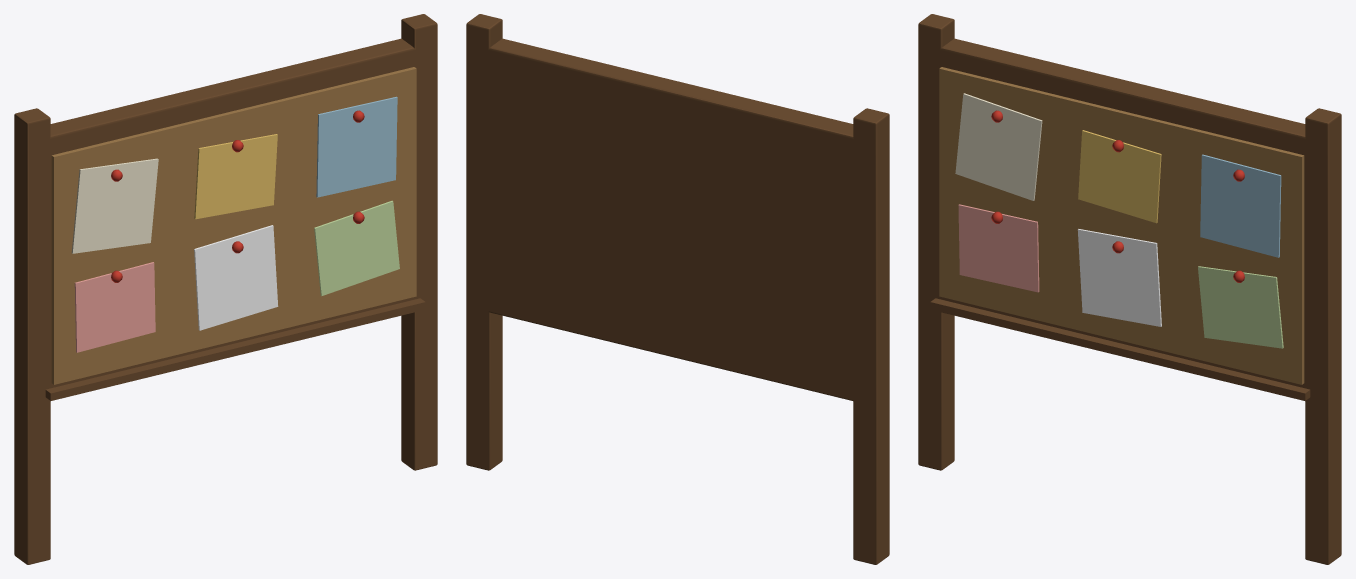
Rendered from notice-board.glb.
The picture shows the model from 3 angles, left to right: view 1: azimuth 30°, elevation 25°; view 2: azimuth 150°, elevation 25°; view 3: azimuth 330°, elevation 25°; orthographic projection.
Visible parts, largest first — view 1: part-cork, part-wood, part-paper-2, part-paper-0, part-paper-4, part-paper-3, part-paper-5, part-paper-1, part-pin; view 2: part-wood; view 3: part-cork, part-wood, part-paper-2, part-paper-0, part-paper-4, part-paper-3, part-paper-5, part-paper-1, part-pin.
Boxes of the visible parts, left/top/right/bottom form: part-cork: left=51, top=67, right=416, bottom=384; part-wood: left=14, top=14, right=437, bottom=564; part-paper-2: left=316, top=96, right=397, bottom=197; part-paper-0: left=71, top=158, right=158, bottom=253; part-paper-4: left=194, top=225, right=278, bottom=330; part-paper-3: left=74, top=262, right=155, bottom=352; part-paper-5: left=314, top=200, right=399, bottom=295; part-paper-1: left=194, top=134, right=277, bottom=219; part-pin: left=111, top=110, right=364, bottom=282; part-wood: left=466, top=14, right=889, bottom=564; part-cork: left=939, top=67, right=1304, bottom=384; part-wood: left=918, top=14, right=1341, bottom=564; part-paper-2: left=1200, top=154, right=1281, bottom=257; part-paper-0: left=955, top=93, right=1042, bottom=200; part-paper-4: left=1077, top=229, right=1161, bottom=326; part-paper-3: left=958, top=204, right=1039, bottom=292; part-paper-5: left=1198, top=266, right=1283, bottom=348; part-paper-1: left=1078, top=130, right=1161, bottom=223; part-pin: left=991, top=110, right=1244, bottom=282.
Bounding box in the file's own units: 68 × 70 × 6.2.
